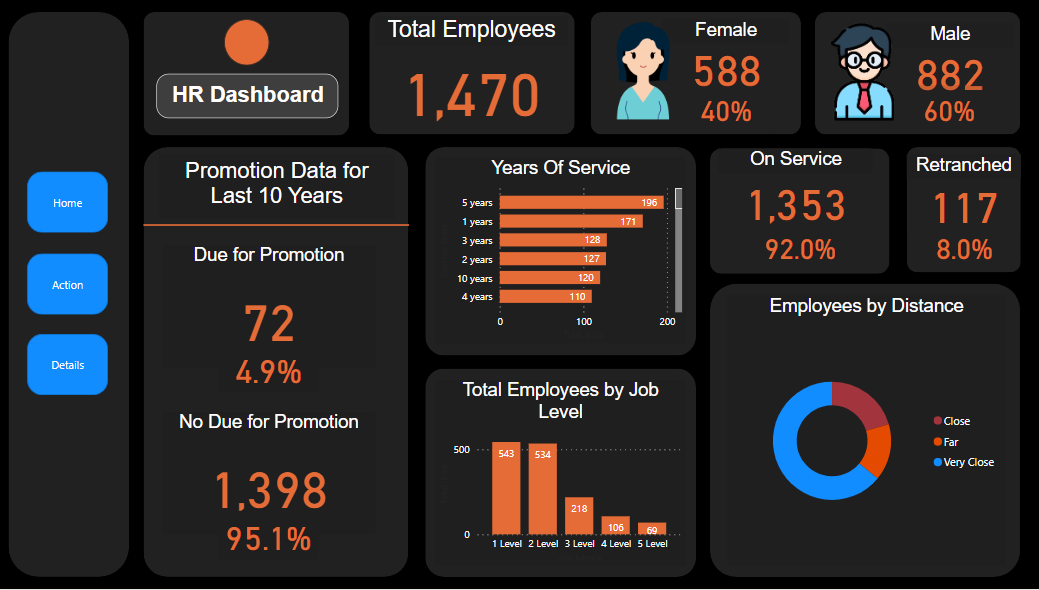

The page's visual inventory and layout, read from the dashboard file:
{"tool":"powerbi","page":{"name":"Home","canvas":[1280,720],"ordinal":0},"visuals":[{"type":"shape","title":"Details","box":[41,211.1,98.9,74.8],"z":0,"group":"g1"},{"type":"shape","box":[17.5,15.8,147.4,689.5],"z":0},{"type":"shape","box":[182.5,15.8,250.9,150.9],"z":1000},{"type":"shape","title":"Action","box":[41,311.2,98.9,74.8],"z":1000,"group":"g1"},{"type":"shape","box":[457.1,15.7,250.9,149.5],"z":2000},{"type":"shape","title":"Home","box":[41,408.9,98.9,74.8],"z":2000,"group":"g1"},{"type":"shape","box":[728.4,15.7,256.9,149.5],"z":3000},{"type":"shape","box":[1002.2,15.7,250.9,149.5],"z":4000},{"type":"shape","box":[183.3,180.9,323.2,524.6],"z":5000},{"type":"shape","box":[527,180.9,330.5,254.5],"z":6000},{"type":"shape","box":[527,451.1,330.5,254.5],"z":7000},{"type":"shape","box":[873.7,181.9,219.1,153],"z":8000},{"type":"shape","box":[1113.5,180.5,139.2,153],"z":9000},{"type":"shape","box":[874.4,347.3,378.7,358.2],"z":10000},{"type":"textbox","box":[197.8,90.5,221.9,54.3],"z":11000},{"type":"shape","box":[281,24.1,55.5,56.7],"z":12000},{"type":"card","title":"Total Employees","fields":{"Values":["New_Measures.Total_Emp"]},"box":[465.2,20.6,236,140],"z":13000},{"type":"card","title":"Female","fields":{"Values":["New_Measures.Female_Count"]},"box":[816,24.7,155.2,87.9],"z":14000},{"type":"card","title":"Female","fields":{"Values":["New_Measures.%_Female"]},"box":[842.5,105.7,102.9,59],"z":15000},{"type":"image","box":[727.3,20.6,129,133.1],"z":16000},{"type":"card","title":"Male","fields":{"Values":["New_Measures.Male_Count"]},"box":[1089.3,30.2,155.2,87.9],"z":17000},{"type":"card","title":"Female","fields":{"Values":["New_Measures.%_Male"]},"box":[1114.1,104.4,103,59.1],"z":18000},{"type":"image","box":[990.4,24.7,137.4,129.1],"z":19000},{"type":"card","title":"Due for Promotion","fields":{"Values":["New_Measures.Due_For_Promotion"]},"box":[205.3,300.4,260.5,150.2],"z":20000},{"type":"textbox","box":[201.2,190.2,286.7,78.6],"z":21000},{"type":"card","title":"Due for Promotion","fields":{"Values":["New_Measures.%Due_for_promotion"]},"box":[274.2,420.3,122.7,59.3],"z":22000},{"type":"card","title":"No Due for Promotion","fields":{"Values":["New_Measures.No_Due"]},"box":[205.3,503,260.5,150.2],"z":23000},{"type":"card","title":"Due for Promotion","fields":{"Values":["New_Measures.%No_due"]},"box":[274.2,624.3,122.7,59.3],"z":24000},{"type":"shape","box":[183.3,165.4,323.9,221.9],"z":25000},{"type":"barChart","title":"Years Of Service","fields":{"Y":["New_Measures.Total_Emp"],"Category":["HR Analytics Data.Service Years"]},"box":[538.8,192.9,305.9,227.4],"z":26000},{"type":"columnChart","title":"Total Employees by Job Level","fields":{"Y":["New_Measures.Total_Emp"],"Category":["HR Analytics Data.Job_Levels"]},"box":[538.8,464.4,305.9,227.4],"z":27000},{"type":"card","title":"On Service","fields":{"Values":["New_Measures.On_Service"]},"box":[883.4,183.3,188.8,100.6],"z":28000},{"type":"card","title":"Female","fields":{"Values":["New_Measures.%on_service"]},"box":[908.2,274.2,150.2,59.3],"z":29000},{"type":"card","title":"Retranched","fields":{"Values":["New_Measures.Retrenched"]},"box":[1113.5,190.2,139.2,93.7],"z":30000},{"type":"card","title":"Female","fields":{"Values":["New_Measures.%Retranched"]},"box":[1132.8,274.2,102,59.3],"z":31000},{"type":"donutChart","title":"Employees by Distance","fields":{"Y":["New_Measures.Total_Emp"],"Series":["HR Analytics Data.Distance_from_Office"]},"box":[894.4,361.1,340.4,330.8],"z":32000},{"type":"group","id":"g1","title":"Group 1","box":[41,211.1,98.9,272.6],"z":33000}]}

Visuals, with their boxes in screenshot pixels (x1, y1, x2, y2), scaled from the page's 1280x720 canvas onto the 1039x590 screenshot:
"Details" shape: 33:173:114:234
shape: 14:13:134:578
shape: 148:13:352:137
"Action" shape: 33:255:114:316
shape: 371:13:575:135
"Home" shape: 33:335:114:396
shape: 591:13:800:135
shape: 814:13:1017:135
shape: 149:148:411:578
shape: 428:148:696:357
shape: 428:370:696:578
shape: 709:149:887:274
shape: 904:148:1017:273
shape: 710:285:1017:578
textbox: 161:74:341:119
shape: 228:20:273:66
"Total Employees" card: 378:17:569:132
"Female" card: 662:20:788:92
"Female" card: 684:87:767:135
image: 590:17:695:126
"Male" card: 884:25:1010:97
"Female" card: 904:86:988:134
image: 804:20:915:126
"Due for Promotion" card: 167:246:378:369
textbox: 163:156:396:220
"Due for Promotion" card: 223:344:322:393
"No Due for Promotion" card: 167:412:378:535
"Due for Promotion" card: 223:512:322:560
shape: 149:136:412:317
"Years Of Service" barChart: 437:158:686:344
"Total Employees by Job Level" columnChart: 437:381:686:567
"On Service" card: 717:150:870:233
"Female" card: 737:225:859:273
"Retranched" card: 904:156:1017:233
"Female" card: 920:225:1002:273
"Employees by Distance" donutChart: 726:296:1002:567
"Group 1" group: 33:173:114:396
